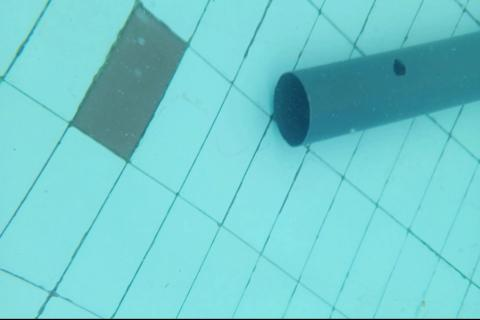kebocoran: (391, 56, 406, 78)
